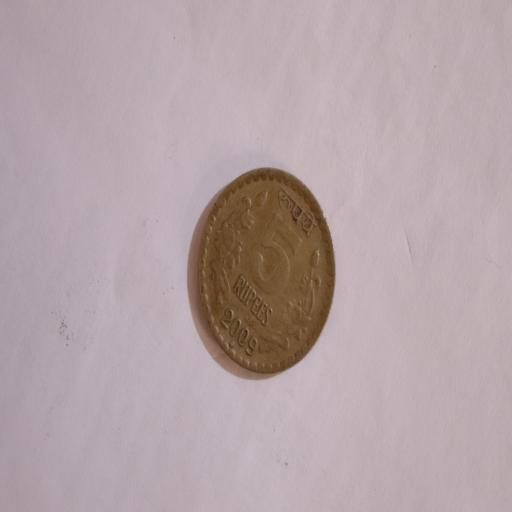rupee5: (196, 169, 334, 376)
